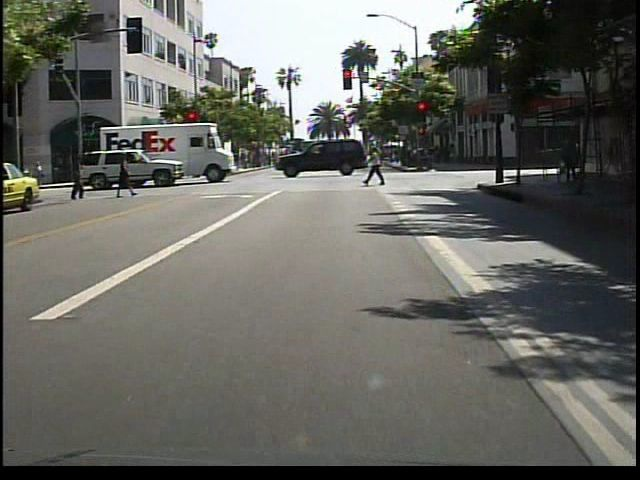person: (558, 136, 585, 193), (111, 152, 135, 202), (367, 144, 391, 190), (67, 156, 89, 206)
